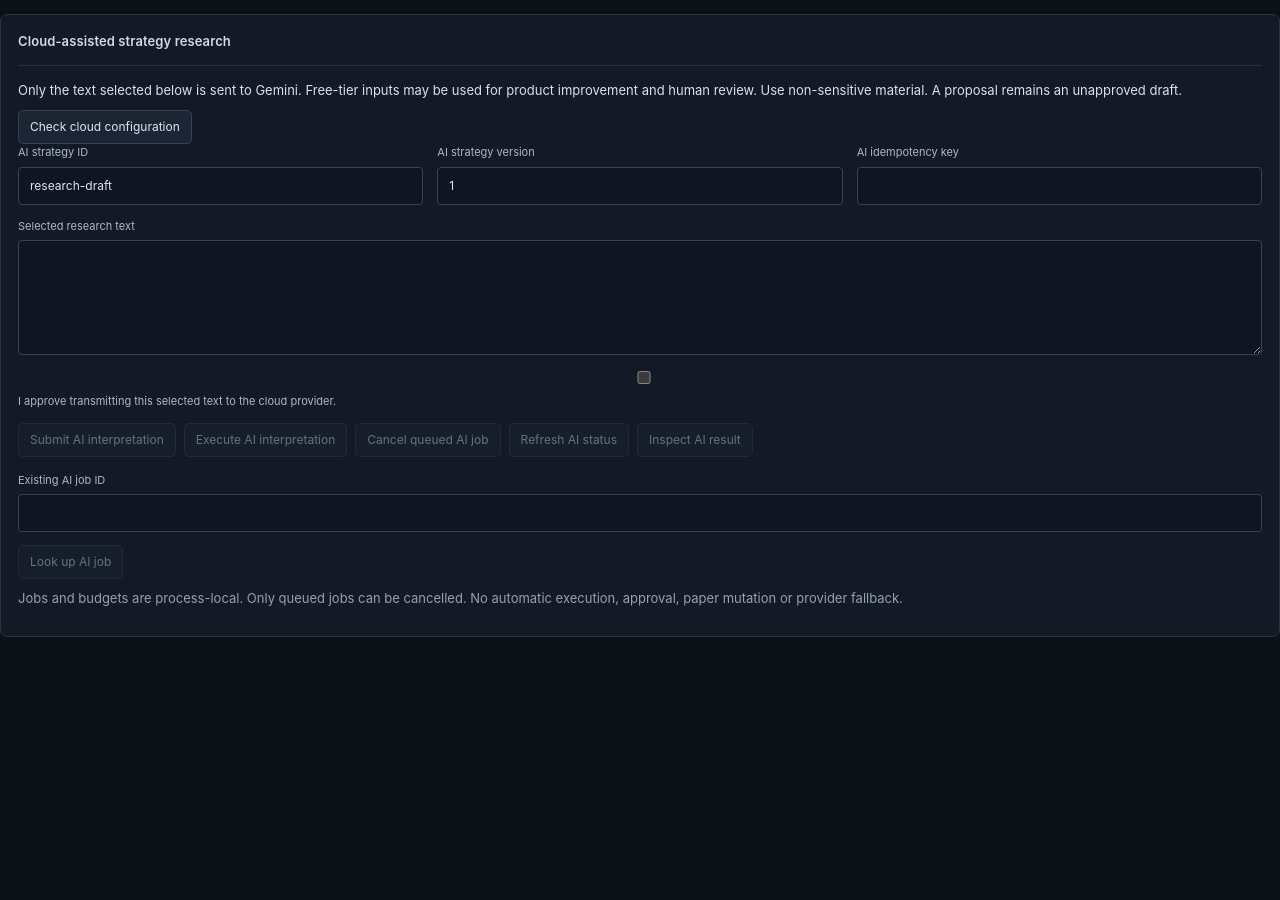
it: cloud research UI and authenticated routes › shows cloud_disabled and disables submission
The image size is (1280, 900).
Click the button "Check cloud configuration": (105, 127) [18,110,192,144]
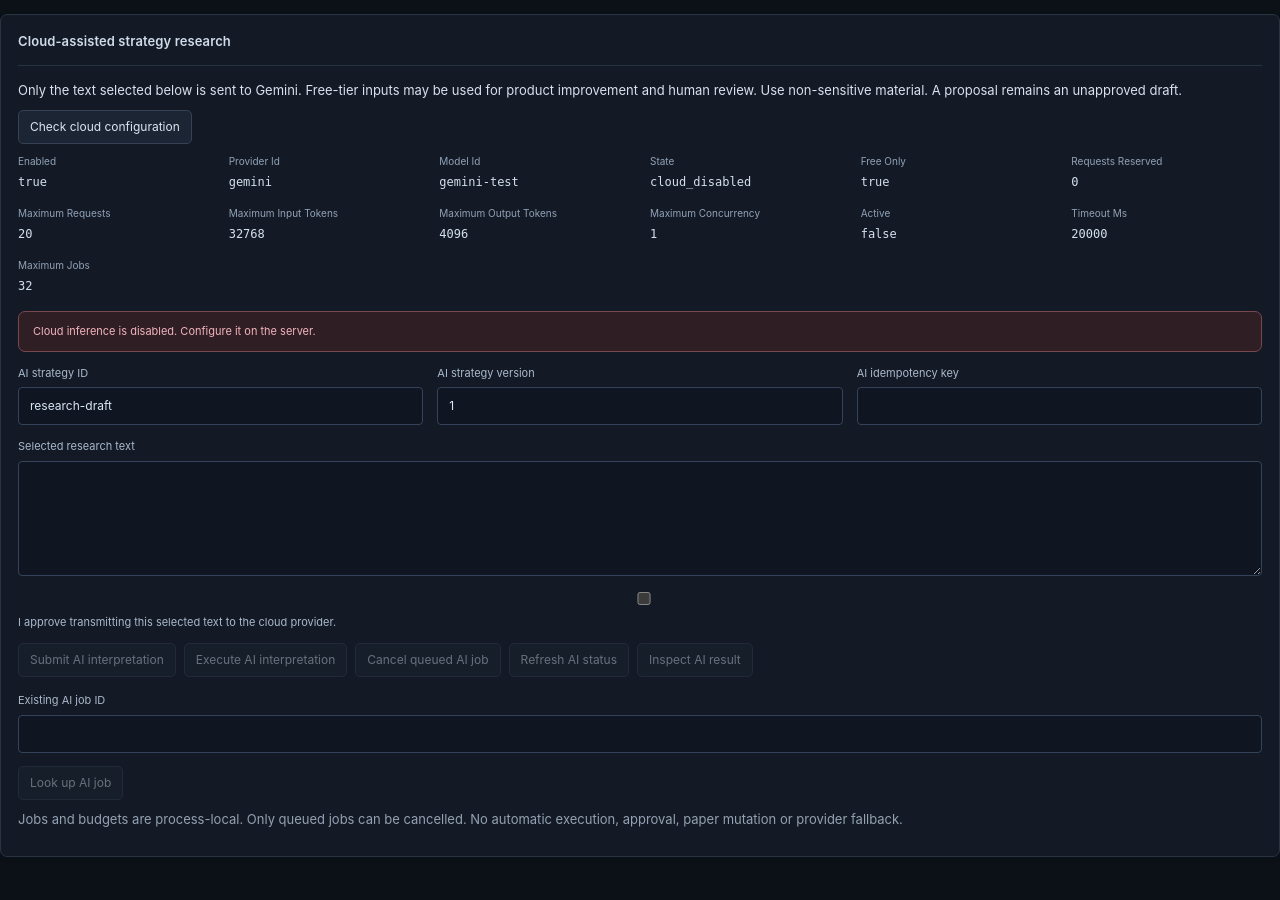
Expected: the button "Submit AI interpretation" is disabled, [18,643,176,677]
Expected: the message "Cloud inference is disabled. Configure it on the server." is shown, [18,311,1262,352]
